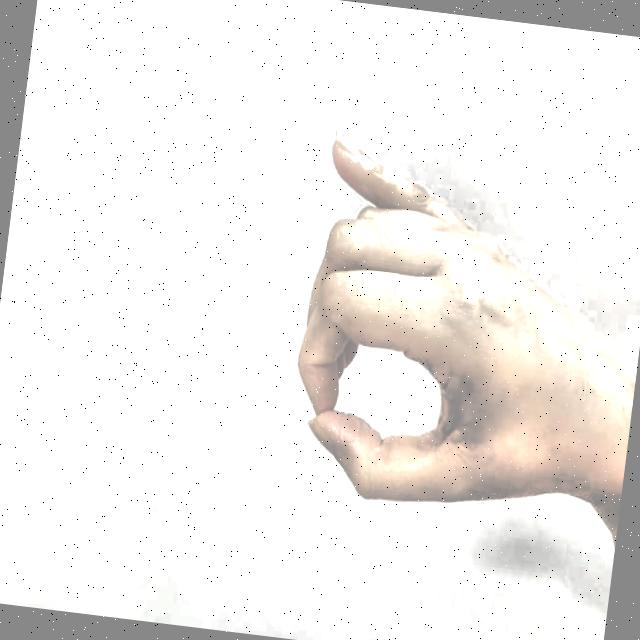Ou: (256, 93, 622, 567)
